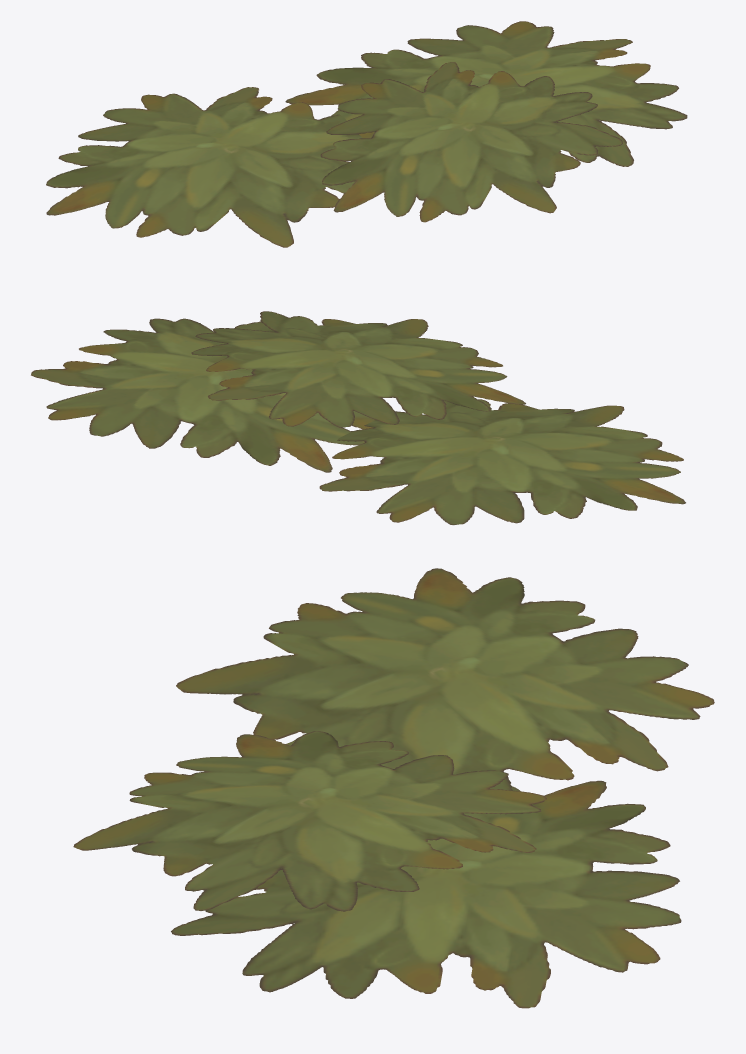
Rendered from Map_11_grass02.FBX.
3 views of the same model, one above another, from view 1: azimuth 30°, elevation 25°; view 2: azimuth 150°, elevation 25°; view 3: azimuth 270°, elevation 25° (orthographic). The views are drawn at different scales.
Parts seen in each view (by area): view 1: Map_11_grass02; view 2: Map_11_grass02; view 3: Map_11_grass02.
Boxes of the visible parts, x1,y1,x2,y2 form: Map_11_grass02: (46,21,687,247); Map_11_grass02: (31,311,686,525); Map_11_grass02: (73,568,714,1008).
Bounding box in the file's own units: 396 × 248 × 21.39.
